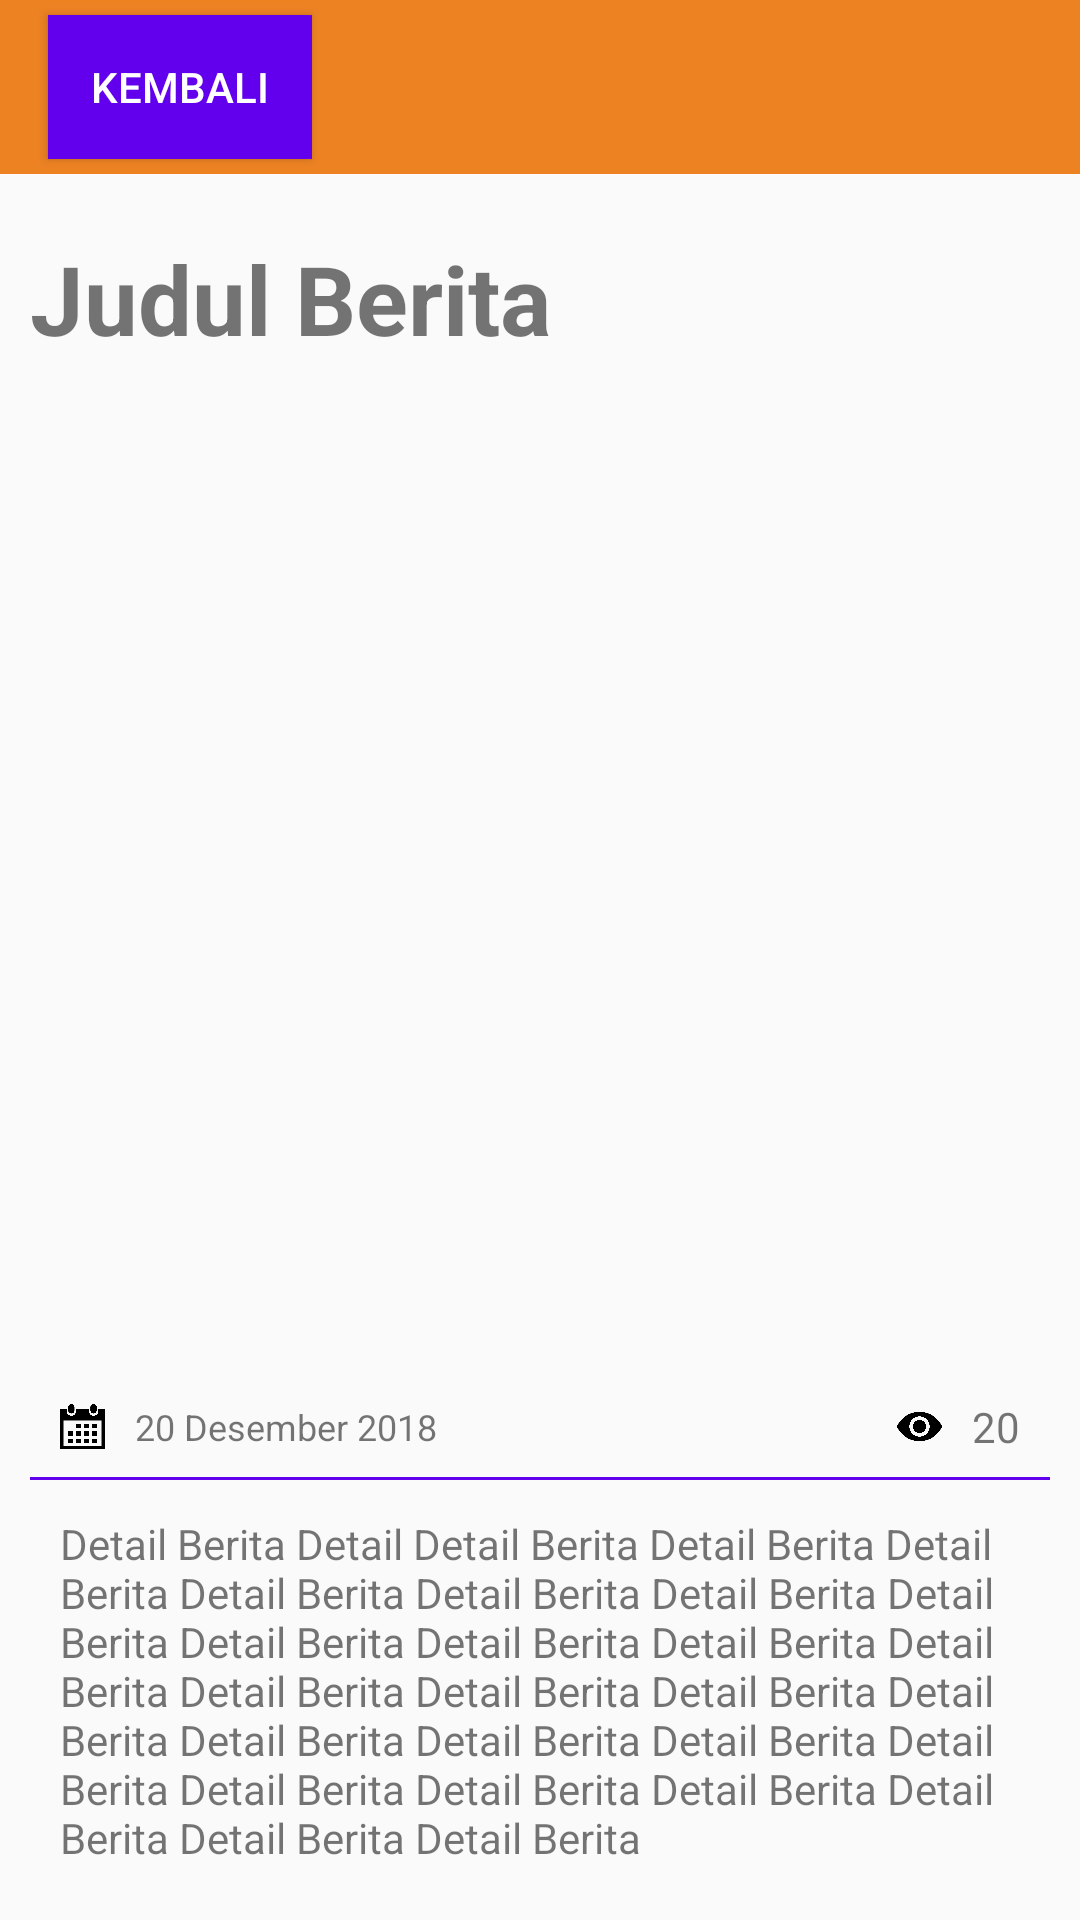

Point at icon controls on the screen. Image size 1080px x 1920px, points as (x,y).
date: (82,1426)
hits: (919,1426)
